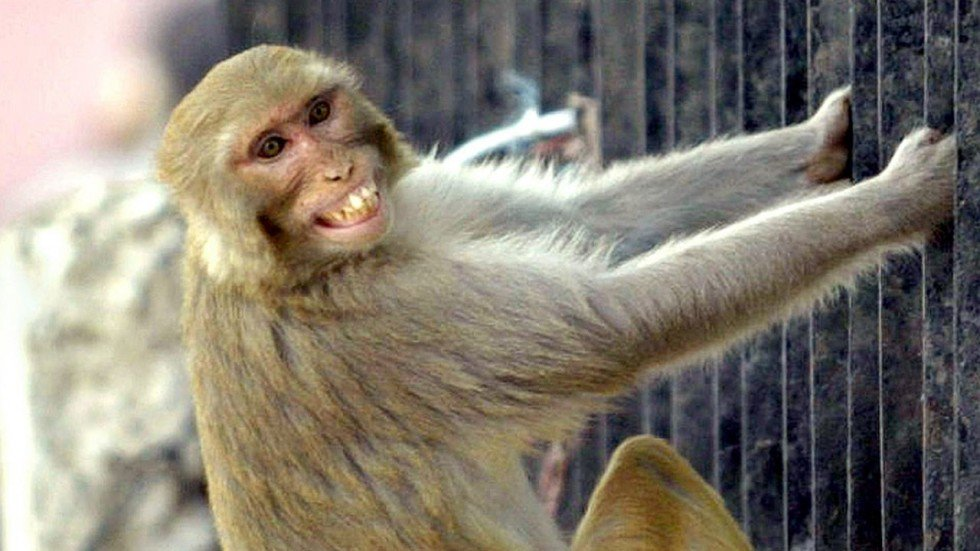monkey: (152, 46, 975, 549)
